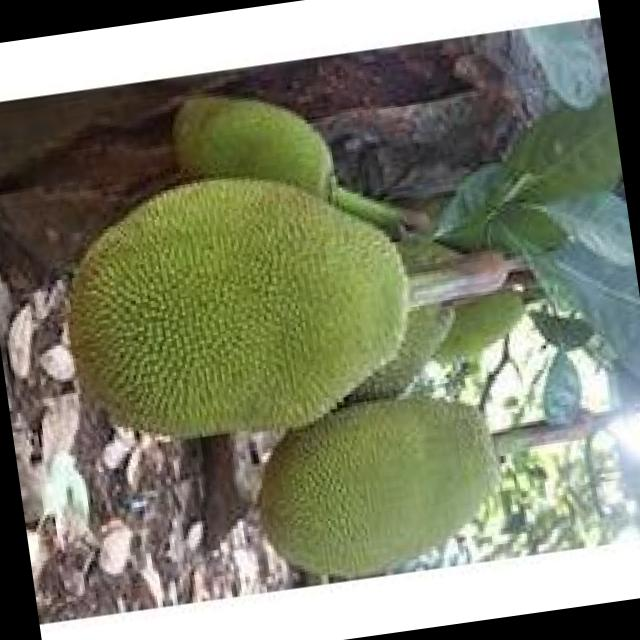Fruit: (26, 135, 446, 482), (230, 360, 524, 590)
